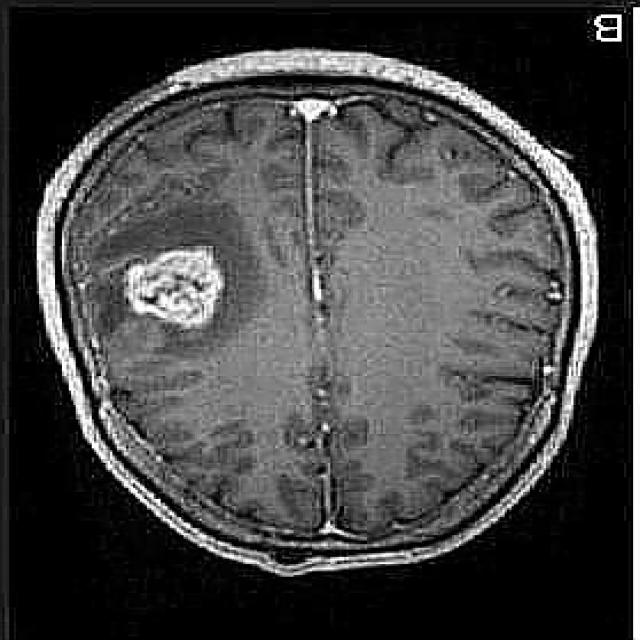Tumor-Cell: (123, 228, 233, 338)
